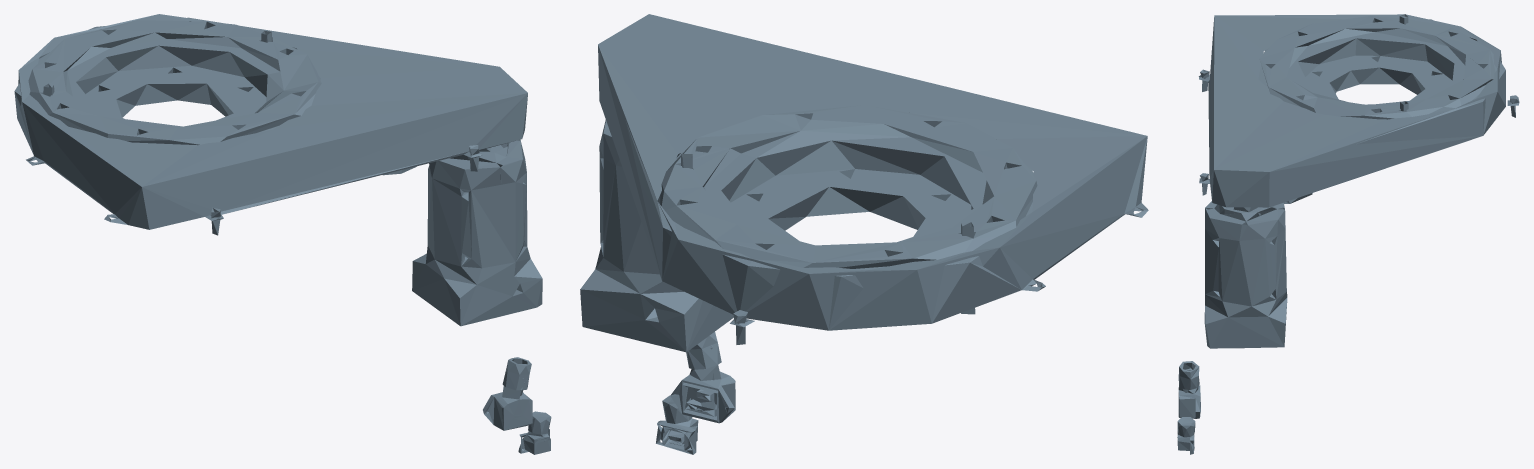
Rendered from susp_FR.dae.
3 views of the same model, side by side, from view 1: azimuth 30°, elevation 25°; view 2: azimuth 150°, elevation 25°; view 3: azimuth 270°, elevation 25° (orthographic). The views are drawn at different scales.
Visible parts, largest first — view 1: node; view 2: node; view 3: node.
Part boxes in pixels (bbox=[...]): node: bbox=[14, 14, 551, 454]; node: bbox=[580, 14, 1148, 454]; node: bbox=[1177, 14, 1519, 454].
Size of the model in its own units: 0.2883 by 0.2509 by 0.2357.
